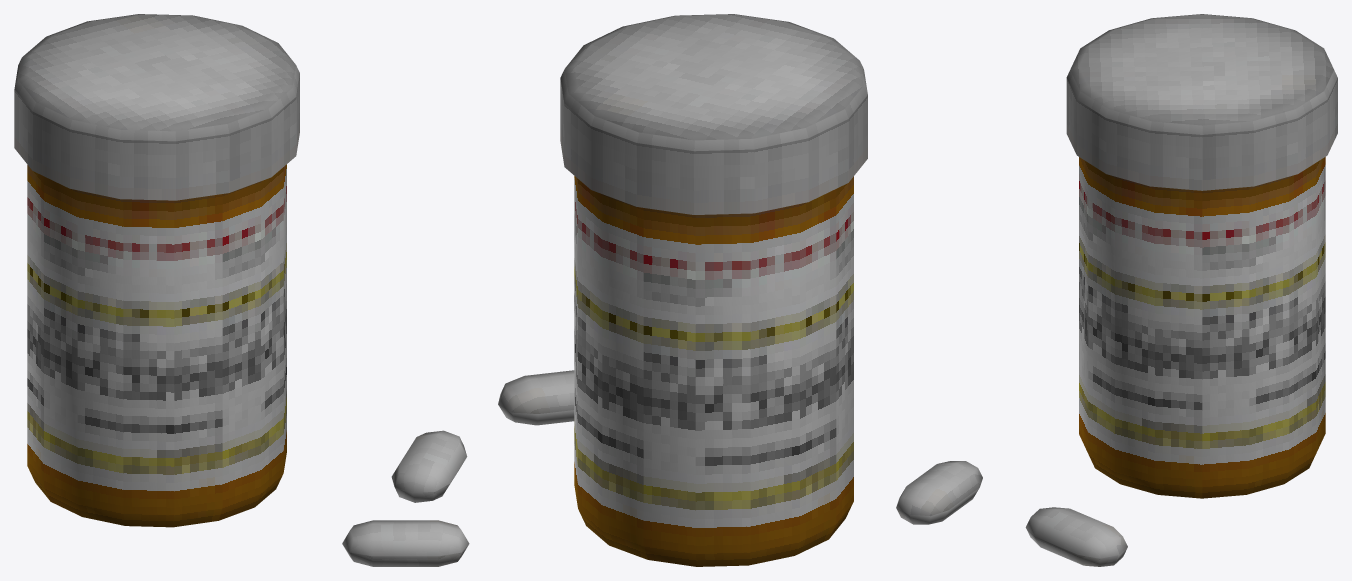
Rendered from pills_bottle_1.glb.
3 renders of one model, left to right at view 1: azimuth 30°, elevation 25°; view 2: azimuth 150°, elevation 25°; view 3: azimuth 270°, elevation 25°, orthographic. The views are drawn at different scales.
Parts seen in each view (by area): view 1: pills_bottle_1; view 2: pills_bottle_1; view 3: pills_bottle_1.
Part boxes in pixels (x1,y1,x2,y2): pills_bottle_1: [14, 14, 469, 566]; pills_bottle_1: [498, 14, 867, 566]; pills_bottle_1: [896, 14, 1337, 566].
Size of the model in its own units: 0.1259 by 0.1333 by 0.1354.
1 material, 1 textured.
